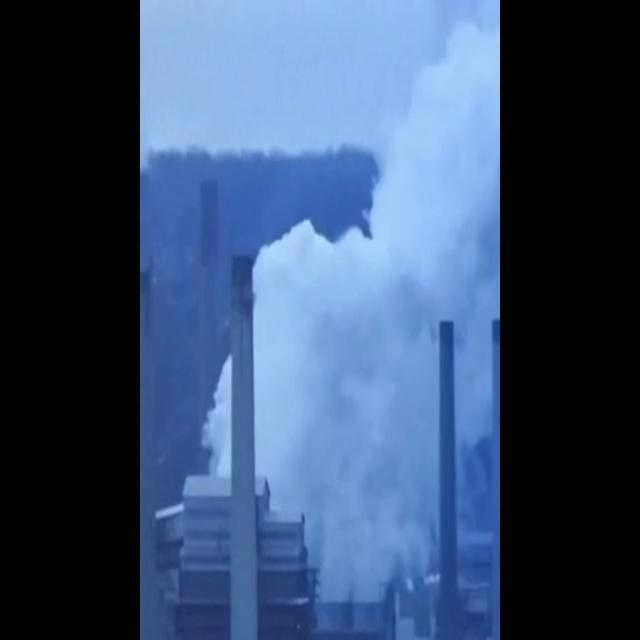Smoke: (200, 27, 500, 613)
